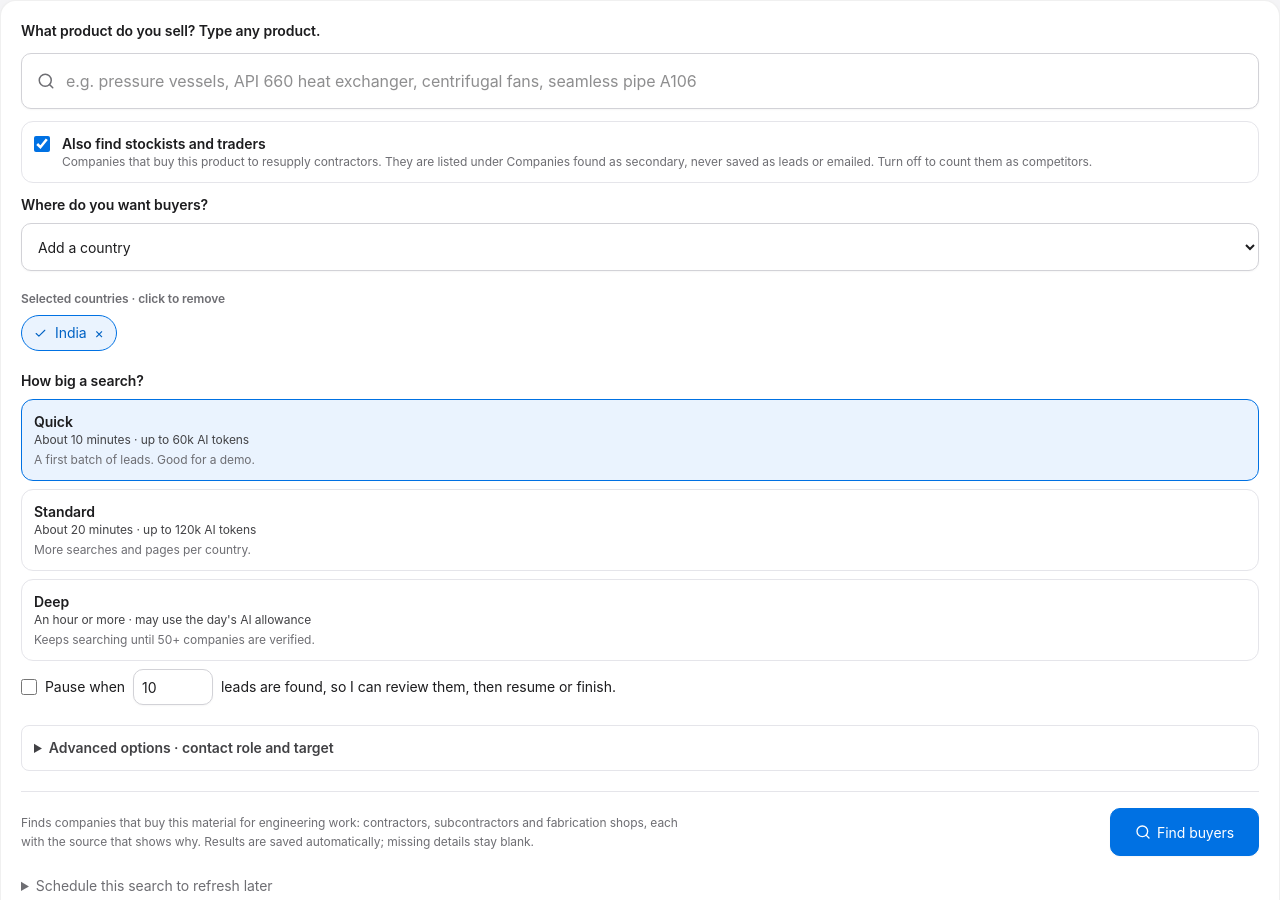
Test: bounded material research form › searches exactly the typed words: no product types, chips or list to choose from (docs/mvp/22)
Replace the text in the search field labelled "What product do you sell? Type any product." with "pressure vessels": (640, 81) [21,53,1259,109]
(page scrolled)
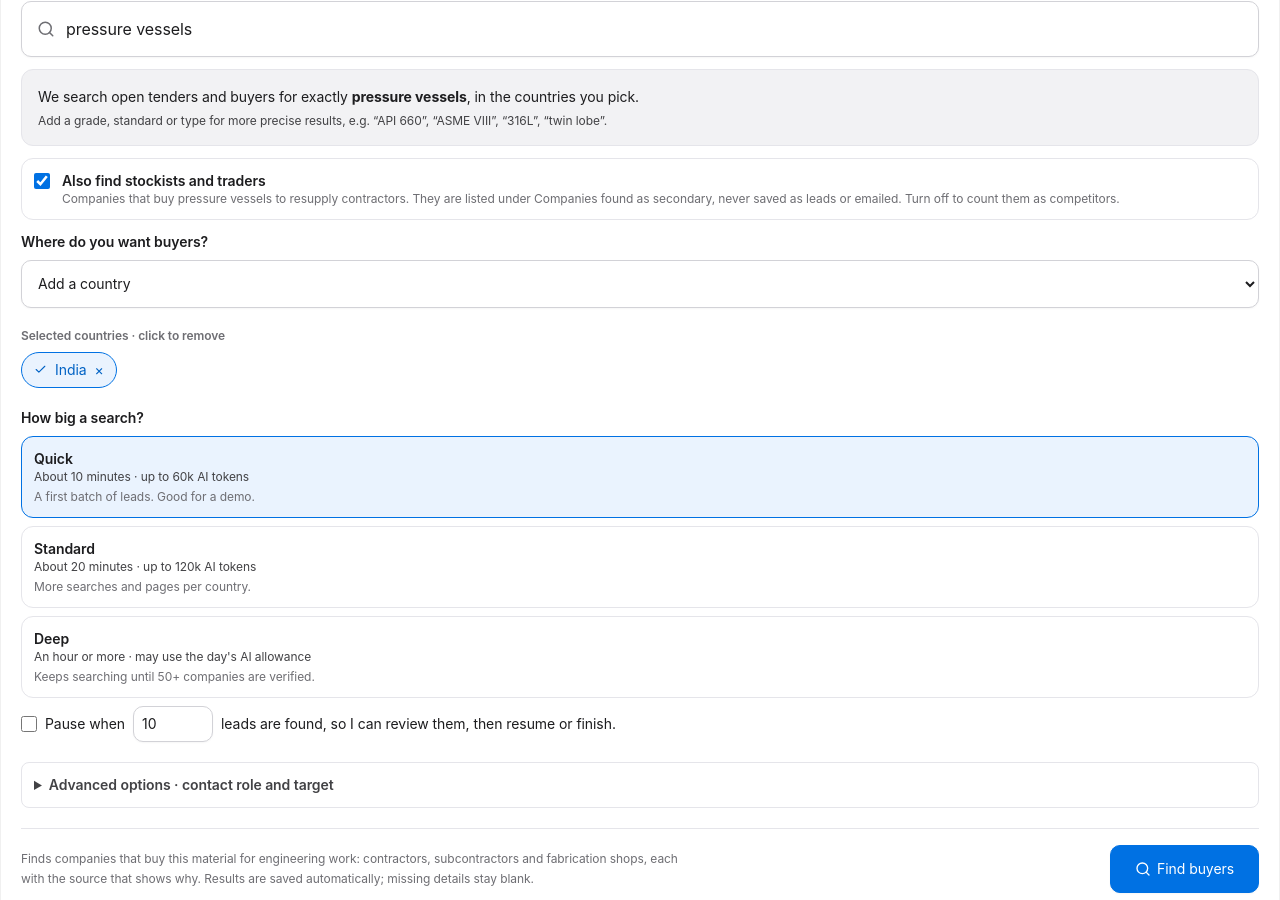
expect the text "We search open tenders and buyers for exactly" shows "pressure vessels": met, box [352,88,467,105]
Submit the form named "Search for opportunities"
(page scrolled)
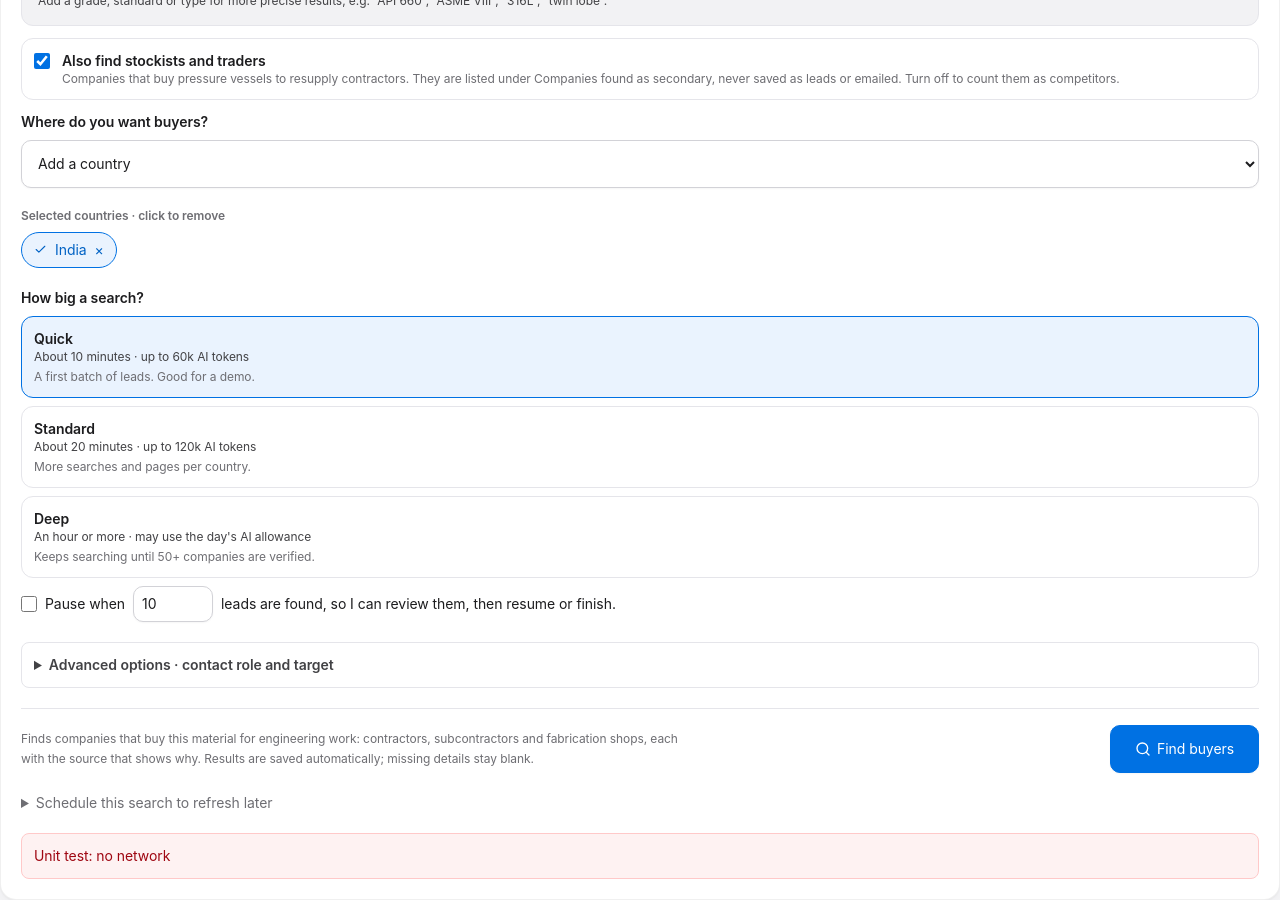
expect the message "Unit test: no network" is shown: met, box [21,833,1259,879]
